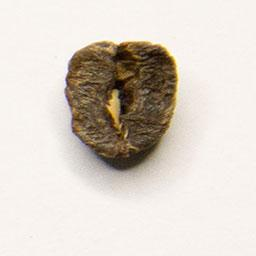defect: (58, 35, 185, 165)
